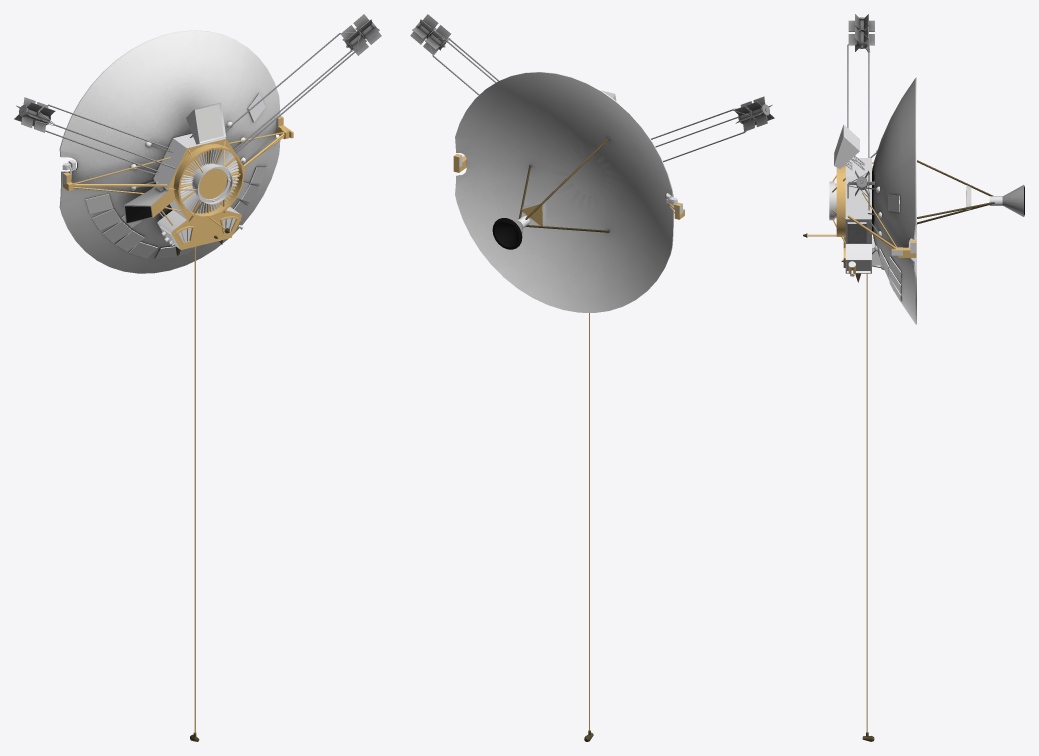
Rendered from pioneer-10.glb.
The picture shows the model from 3 angles, left to right: view 1: azimuth 30°, elevation 25°; view 2: azimuth 150°, elevation 25°; view 3: azimuth 270°, elevation 25°; orthographic projection. The views are drawn at different scales.
Parts seen in each view (by area): view 1: AO_dish, Foil_silver, Foil_gold, Tex_02, AO_rtg, Foil_trans; view 2: AO_dish, AO_rtg, Tex_02, Foil_gold, Tex_black; view 3: AO_dish, Foil_silver, Foil_gold, Tex_02, AO_rtg, Tex_01.
Part boxes in pixels (box(x1,y1,x2,y2)): AO_dish: box(59, 30, 280, 273); Foil_silver: box(62, 93, 278, 259); Foil_gold: box(63, 116, 293, 733); Tex_02: box(34, 32, 360, 741); AO_rtg: box(14, 14, 381, 132); Foil_trans: box(196, 104, 223, 141); AO_dish: box(455, 72, 673, 312); AO_rtg: box(410, 14, 774, 131); Tex_02: box(428, 30, 755, 741); Foil_gold: box(453, 154, 684, 730); Tex_black: box(492, 218, 522, 249); AO_dish: box(872, 77, 1023, 324); Foil_silver: box(829, 124, 1002, 301); Foil_gold: box(807, 162, 966, 732); Tex_02: box(803, 30, 994, 741); AO_rtg: box(848, 14, 874, 195); Tex_01: box(847, 223, 866, 242).
Size of the model in its own units: 4.52 by 8.25 by 2.54.
Materials: 9 (6 with a texture image).
